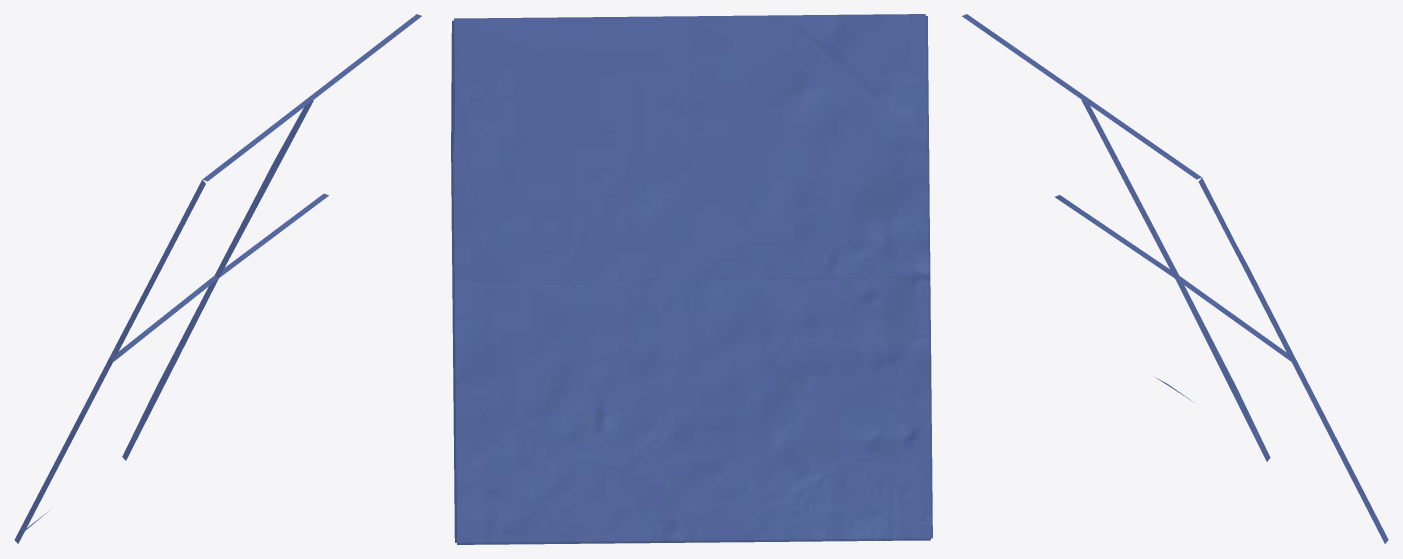
The picture shows the model from 3 angles, left to right: view 1: azimuth 30°, elevation 25°; view 2: azimuth 150°, elevation 25°; view 3: azimuth 270°, elevation 25°; orthographic projection. The views are drawn at different scales.
Bounding box in the file's own units: 78706 × 71214 × 66722.
1 material, 1 textured.
